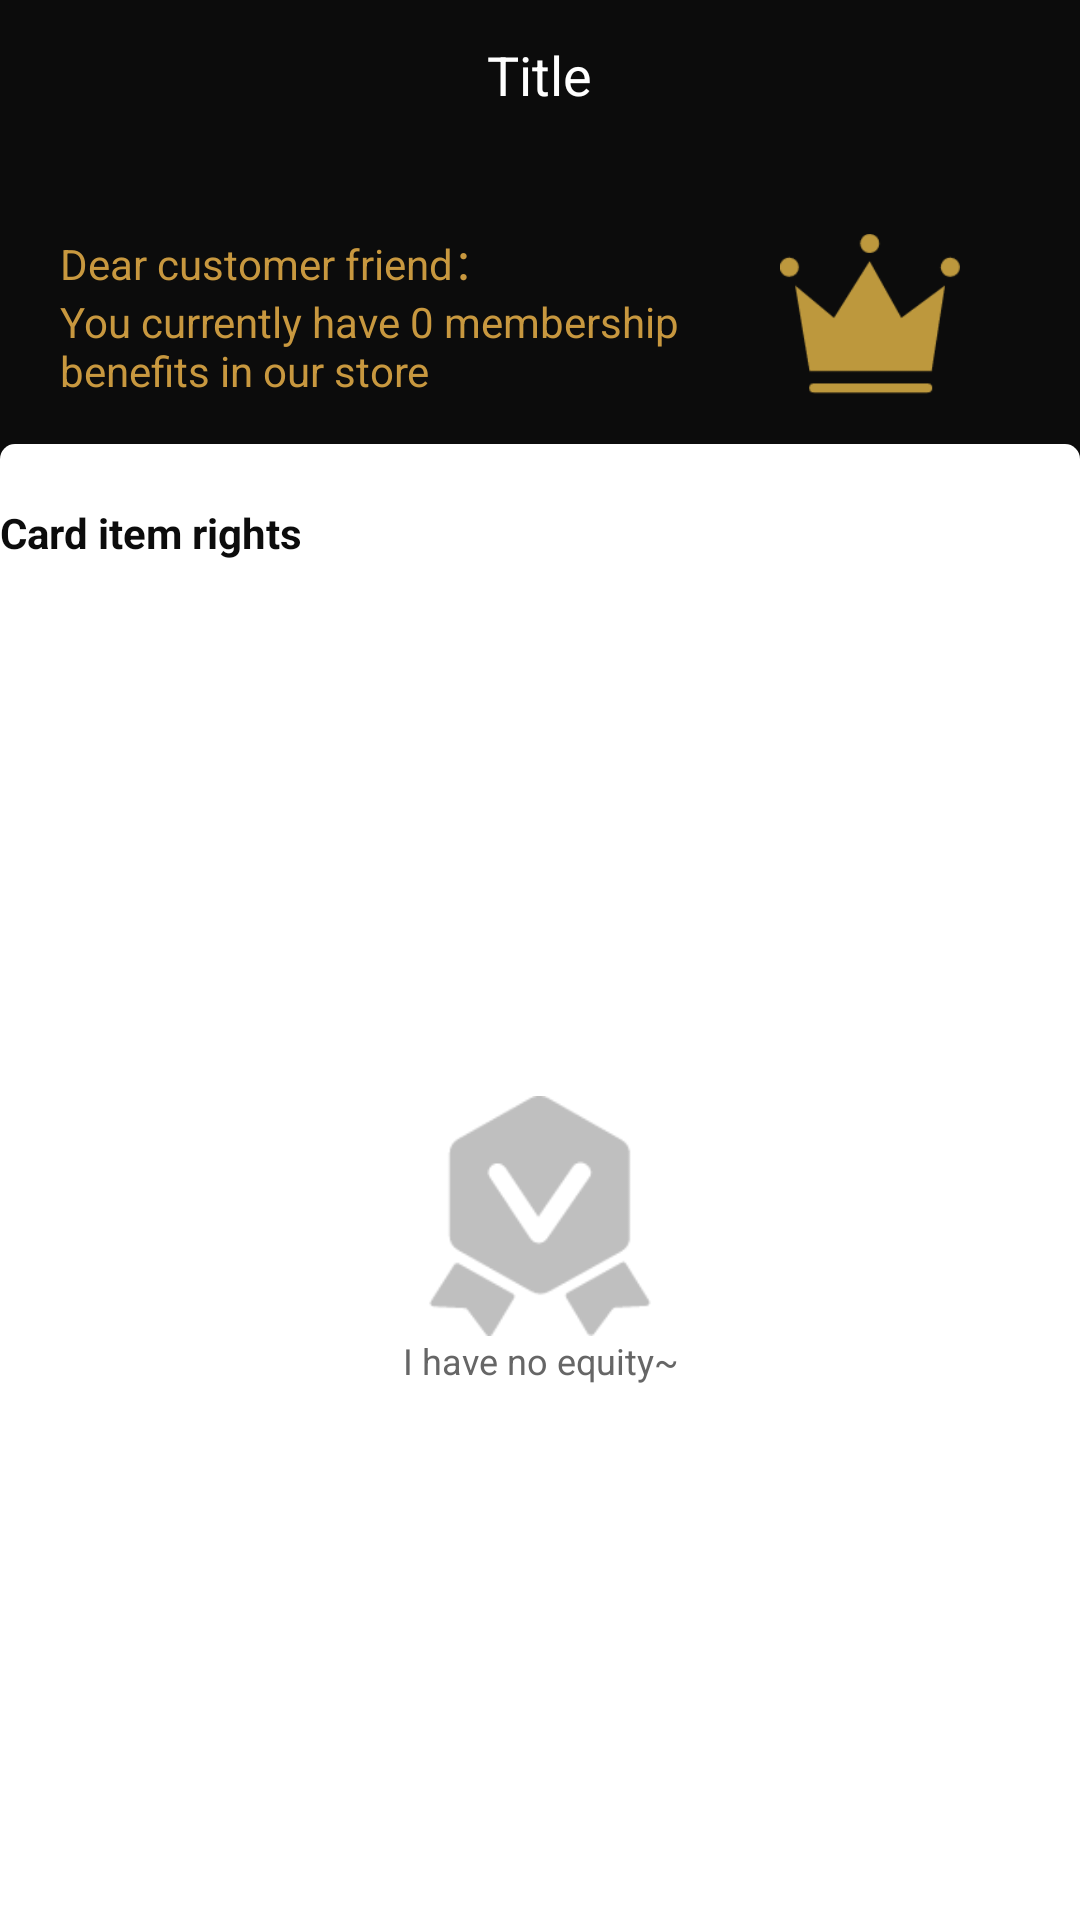

Where icons sit on this 1080w x 1920h app screen, as (x1, y1, x2, y2):
huangguang: (780, 234, 960, 394)
huiyuanquanyi: (430, 1096, 650, 1336)
